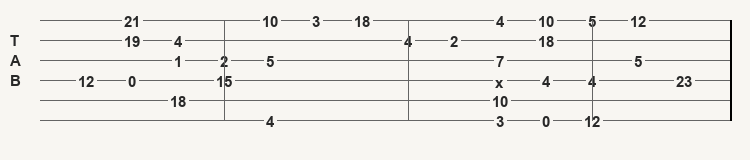0: (128, 73, 140, 88), (542, 113, 554, 128)
1: (174, 53, 186, 68)
10: (262, 13, 282, 28), (492, 93, 512, 108), (538, 13, 558, 28)
12: (78, 73, 98, 88), (584, 113, 604, 128), (630, 13, 650, 28)
15: (216, 73, 236, 88)
18: (170, 93, 190, 108), (354, 13, 374, 28), (538, 33, 558, 48)
19: (124, 33, 144, 48)
2: (220, 53, 232, 68), (450, 33, 462, 48)
21: (124, 13, 144, 28)
23: (676, 73, 696, 88)
3: (312, 13, 324, 28), (496, 113, 508, 128)
4: (174, 33, 186, 48), (266, 113, 278, 128), (404, 33, 416, 48), (496, 13, 508, 28), (542, 73, 554, 88), (588, 73, 600, 88)
5: (266, 53, 278, 68), (588, 13, 600, 28), (634, 53, 646, 68)
7: (496, 53, 508, 68)
x: (495, 74, 508, 86)
